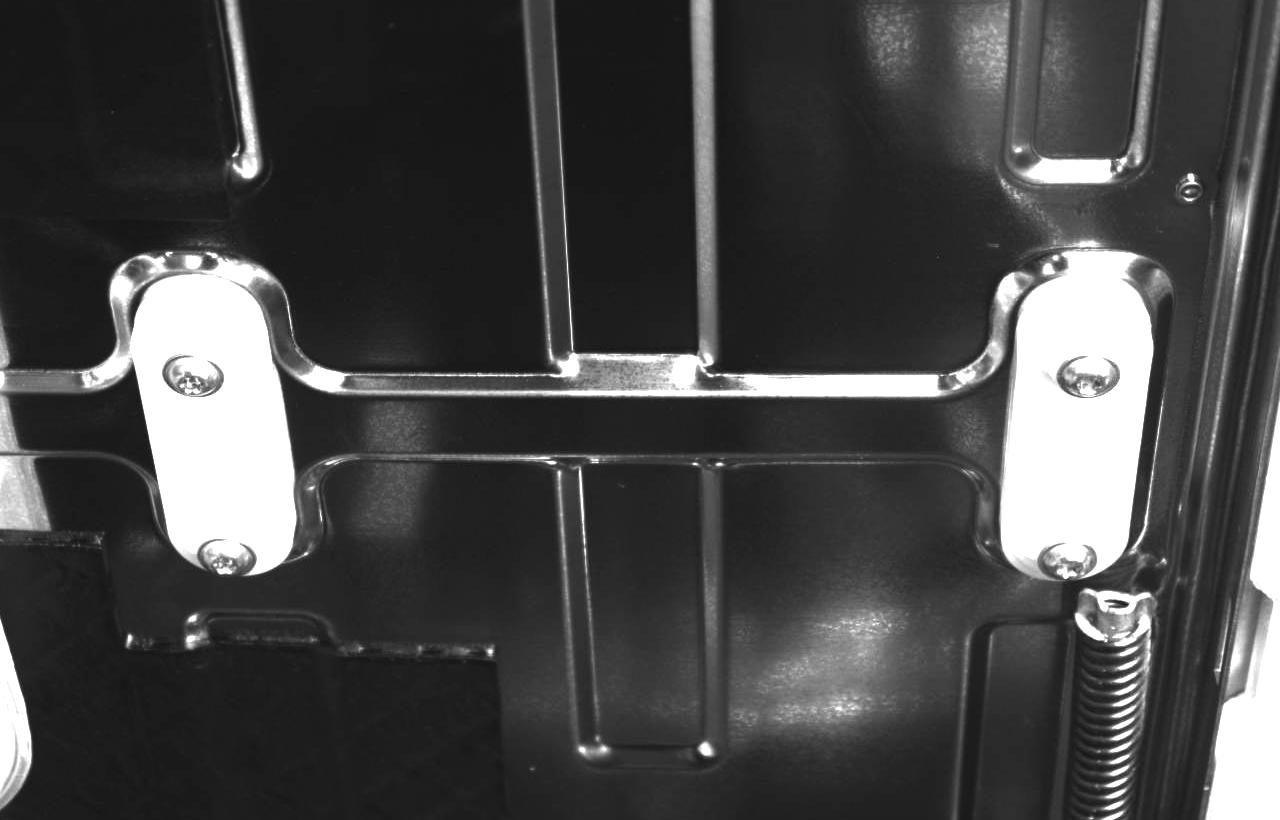vida-ok: (149, 339, 236, 417), (1032, 329, 1120, 402), (185, 521, 266, 585), (1035, 533, 1110, 592)
